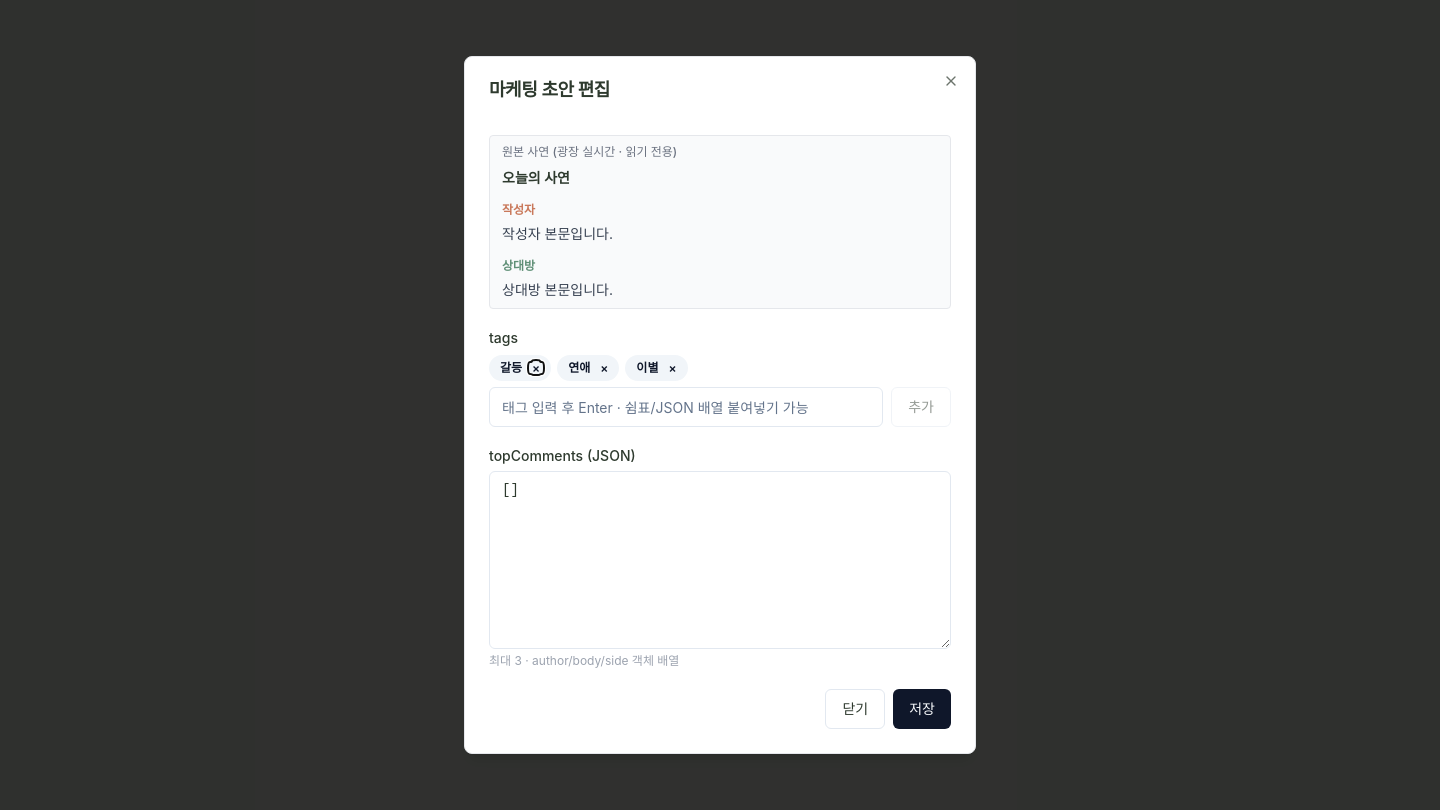
Test: HoldingDraftDialog › renders every tag as its own chip and allows removing one
Expected: the text "오늘의 사연" is shown, [502, 169, 570, 186]
Expected: the element with test id "holding-draft-tag-0" shows "갈등", [500, 360, 522, 375]
What coordinates should you click on to do the following:
click the button with test id "holding-draft-tag-remove-1"
I would click on:
 (604, 368)
Its box is [596, 362, 612, 374].
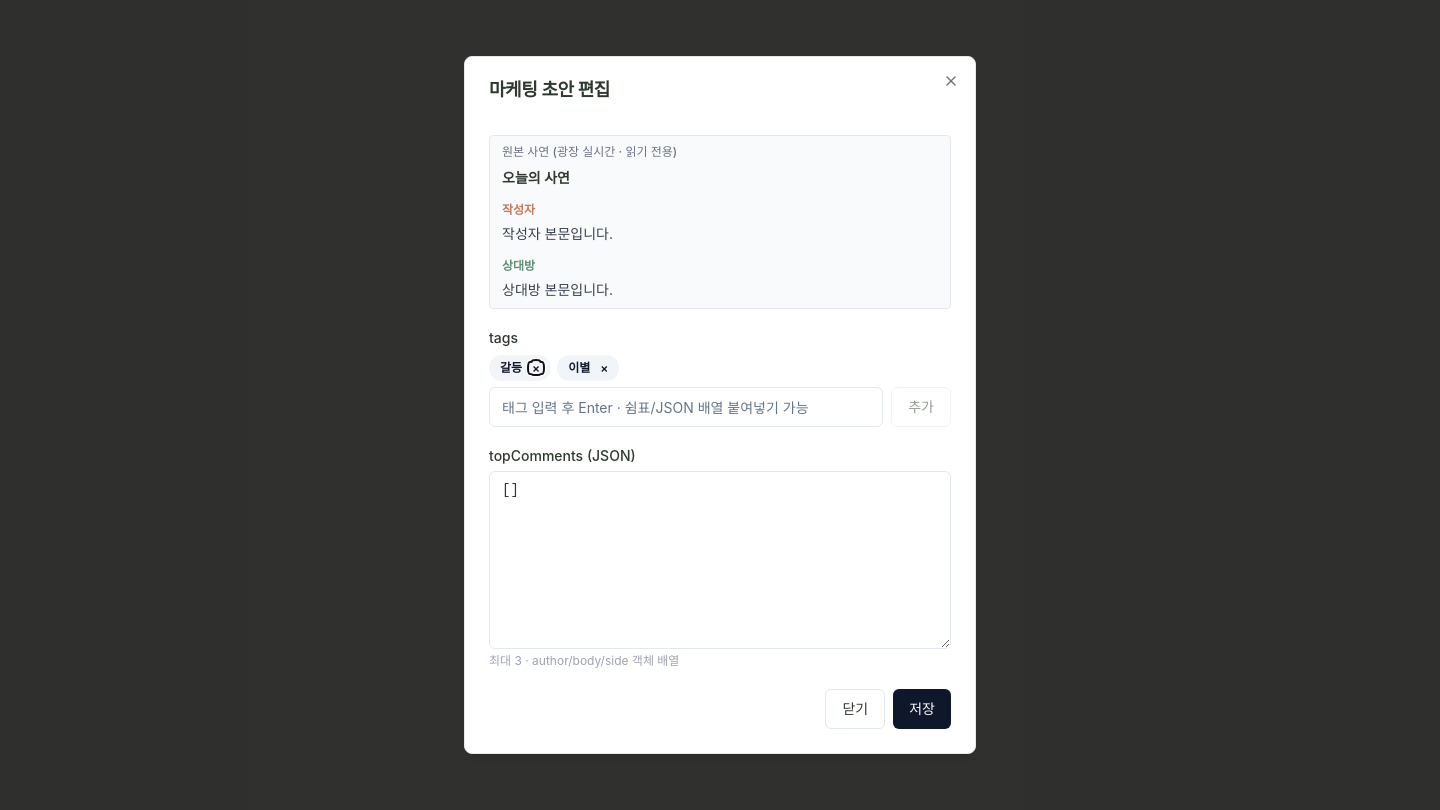
Expected: the element with test id "holding-draft-tag-0" shows "갈등", [500, 360, 522, 375]
Expected: the text "연애" is gone
